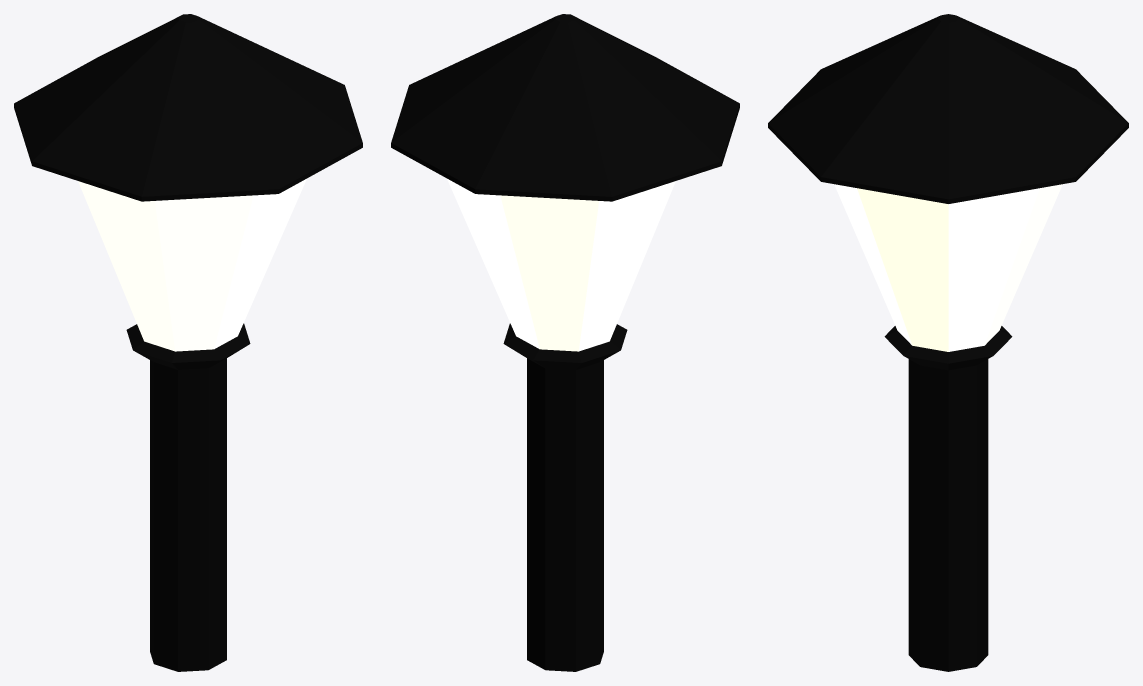
File: GardenLamp_CI.glb
The picture shows the model from 3 angles, left to right: view 1: azimuth 30°, elevation 25°; view 2: azimuth 150°, elevation 25°; view 3: azimuth 270°, elevation 25°; orthographic projection.
Parts seen in each view (by area): view 1: GardenLamp1; view 2: GardenLamp1; view 3: GardenLamp1.
Boxes of the visible parts, x1,y1,x2,y2 form: GardenLamp1: [14, 14, 362, 671]; GardenLamp1: [391, 14, 739, 671]; GardenLamp1: [768, 14, 1128, 671].
Size of the model in its own units: 0.2744 by 0.5343 by 0.2744.
